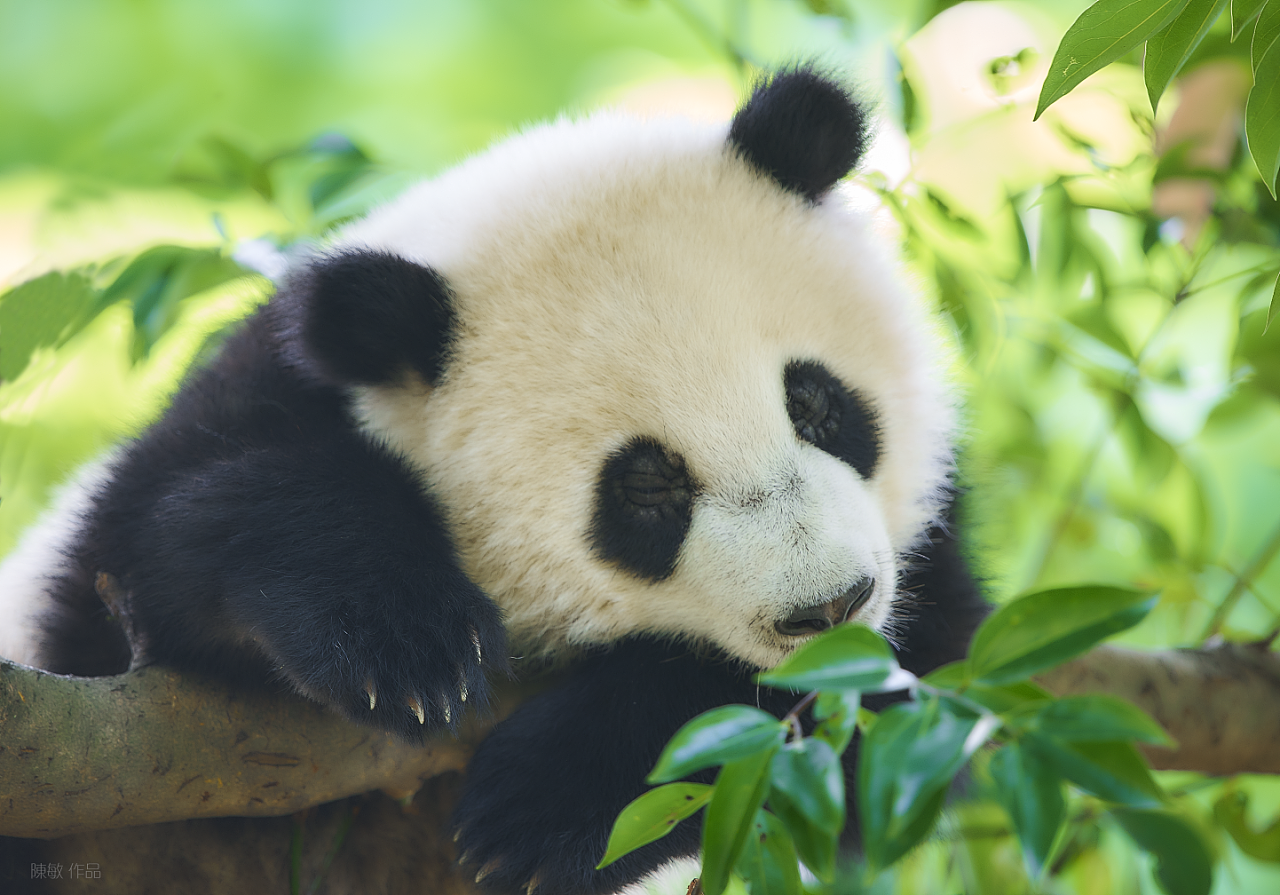panda: (37, 60, 1016, 895)
